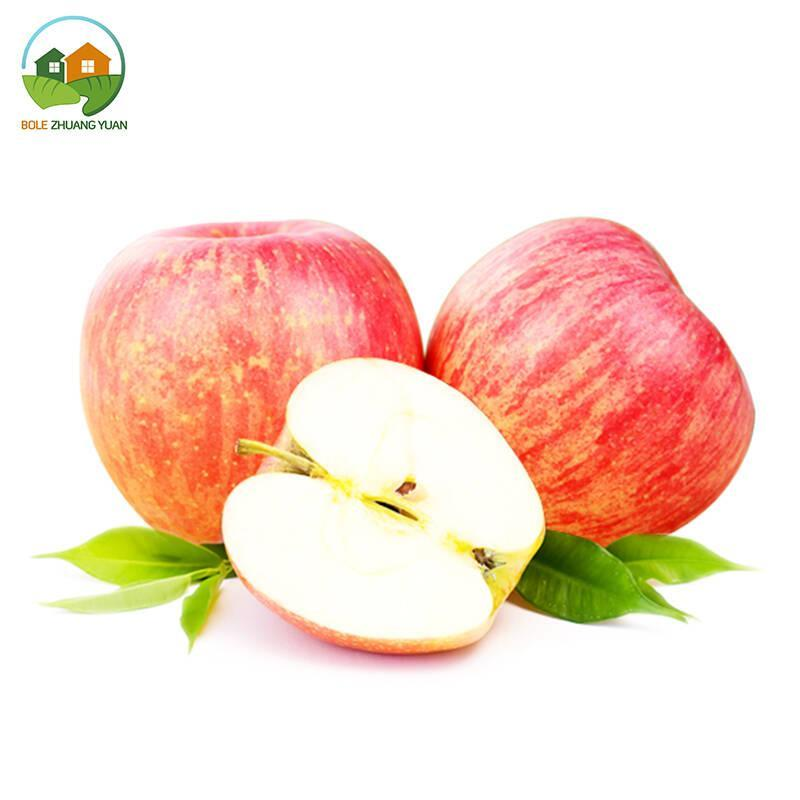apple: (81, 221, 424, 543), (421, 215, 758, 534)
